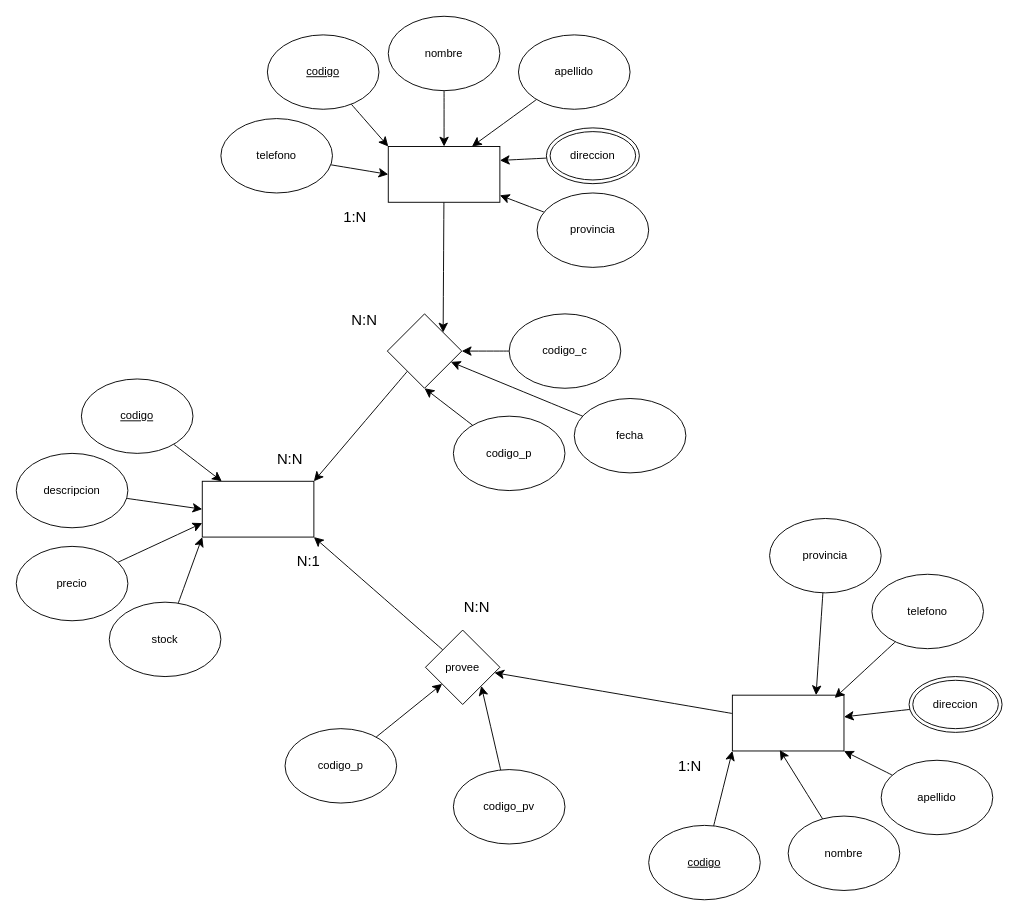
Image size: 1018x916. Some labels were removed from this diagram. Each missing label, with the centre of its shape:
"Cliente" goes at point 443,174.
"compra" goes at point 424,350.
"Productos" goes at point 257,508.
"Provedores" goes at point 787,722.
